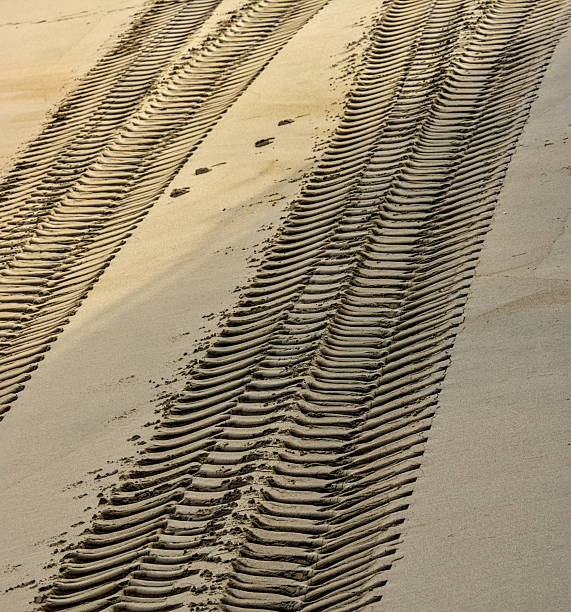vehicle_track: (44, 0, 570, 611), (0, 0, 327, 418)
